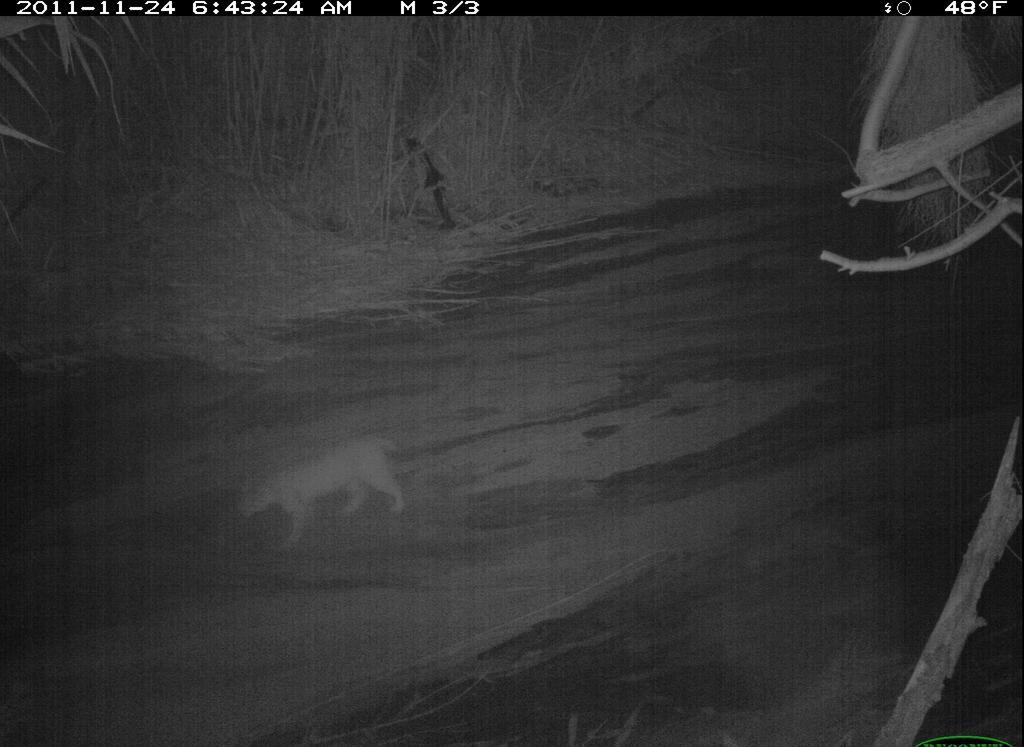bobcat: (228, 422, 419, 552)
